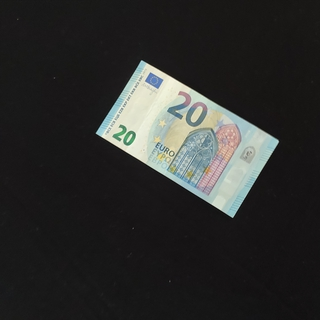20EUROFront: (95, 59, 279, 218)
